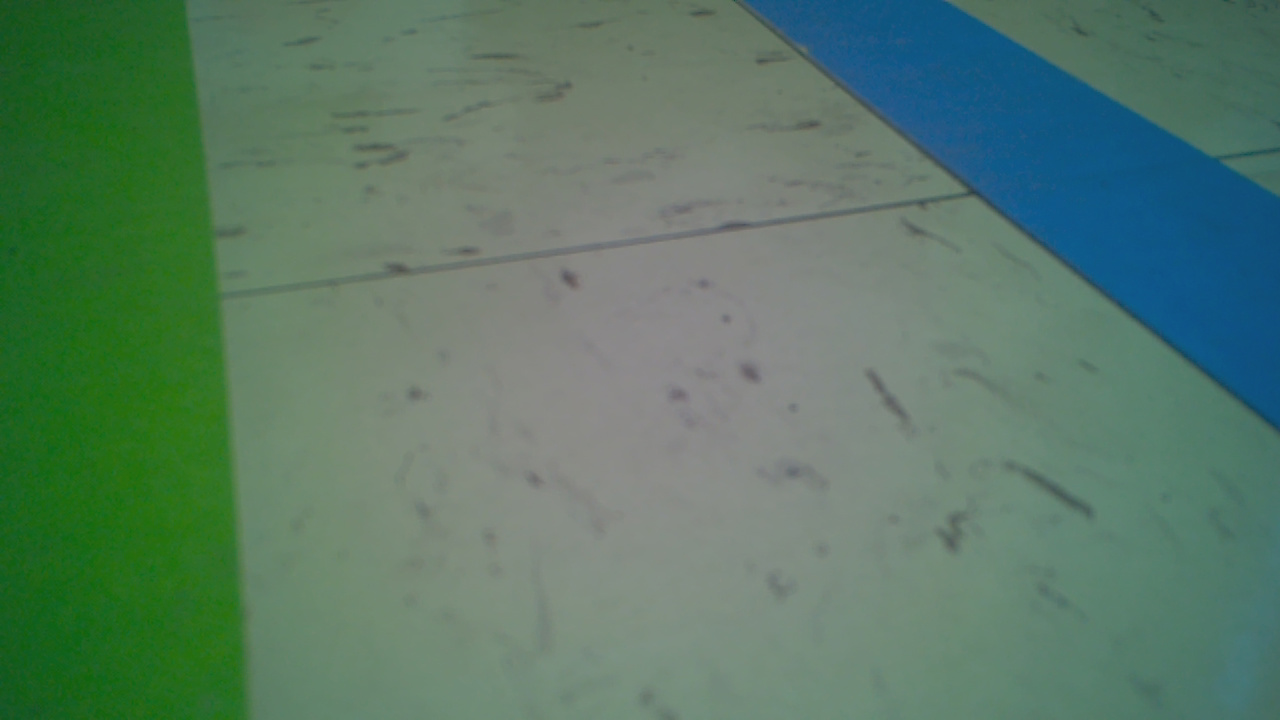greenline: (0, 0, 251, 720)
